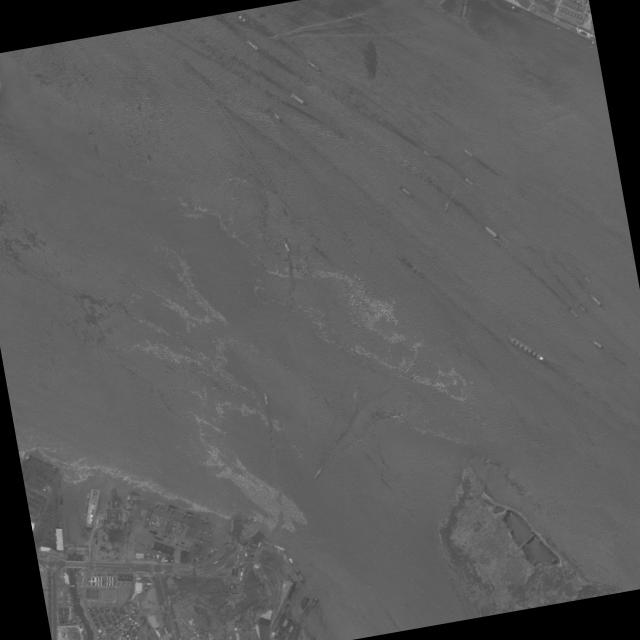ship: (505, 332, 549, 364), (392, 248, 418, 272), (481, 222, 501, 239), (289, 90, 307, 106), (304, 56, 321, 72), (266, 105, 282, 120), (244, 36, 260, 51), (588, 292, 602, 307), (566, 304, 579, 318), (399, 185, 414, 197), (83, 490, 90, 515), (333, 128, 348, 139), (463, 175, 476, 187), (312, 465, 323, 479), (281, 238, 291, 253), (247, 526, 259, 537), (272, 542, 286, 551), (577, 301, 588, 312), (581, 272, 592, 283), (591, 338, 603, 348), (305, 594, 315, 606), (298, 74, 310, 84), (235, 12, 247, 22), (183, 508, 197, 516), (442, 198, 450, 212), (420, 147, 431, 157), (462, 147, 474, 156), (262, 390, 269, 405), (262, 538, 274, 546), (195, 513, 207, 520), (154, 498, 166, 505), (128, 489, 140, 496), (461, 3, 467, 16), (167, 502, 178, 509), (229, 517, 234, 531), (59, 494, 63, 506), (287, 556, 293, 562), (437, 0, 444, 5)
